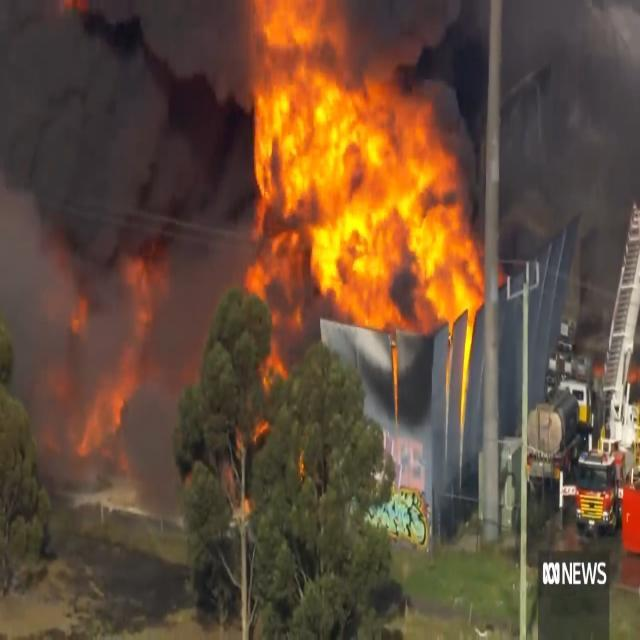fire: (248, 0, 508, 398), (44, 244, 172, 482)
